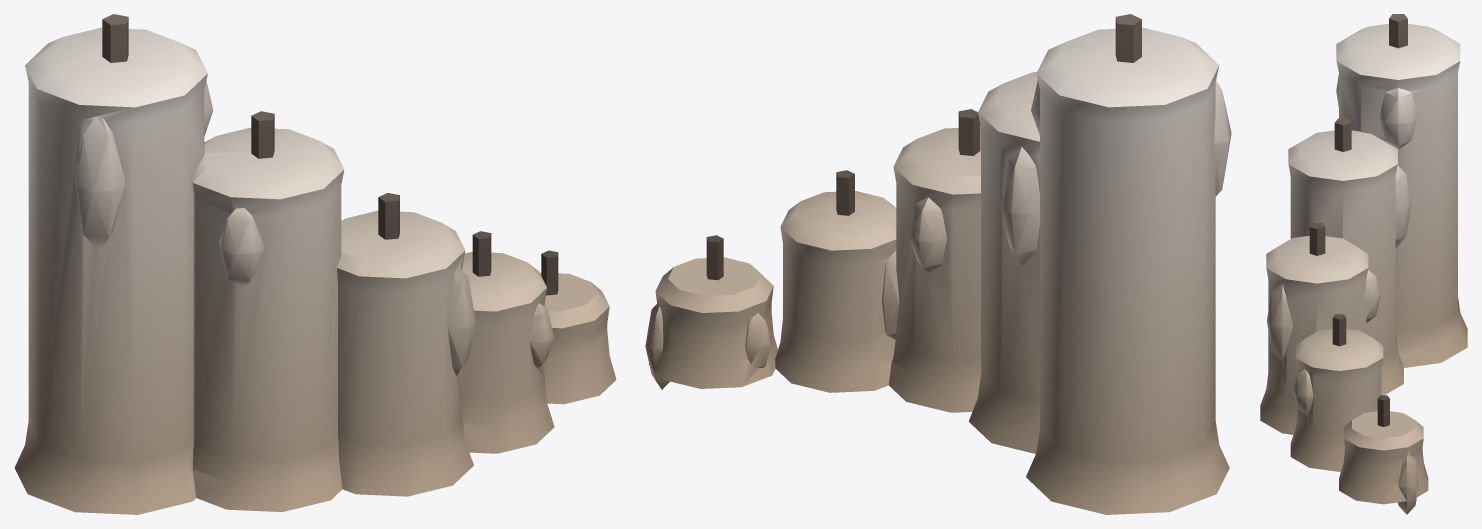
The model's file is candle_arc.glb.
3 renders of one model, left to right at view 1: azimuth 30°, elevation 25°; view 2: azimuth 150°, elevation 25°; view 3: azimuth 270°, elevation 25°, orthographic. The views are drawn at different scales.
Visible parts, largest first — view 1: candle_arc; view 2: candle_arc; view 3: candle_arc.
Boxes of the visible parts, <box> form: candle_arc: <box>14,14,616,514</box>; candle_arc: <box>645,14,1231,514</box>; candle_arc: <box>1260,14,1467,514</box>.
Bounding box in the file's own units: 1.26 × 1.01 × 0.562.
Materials: 1 (1 with a texture image).
